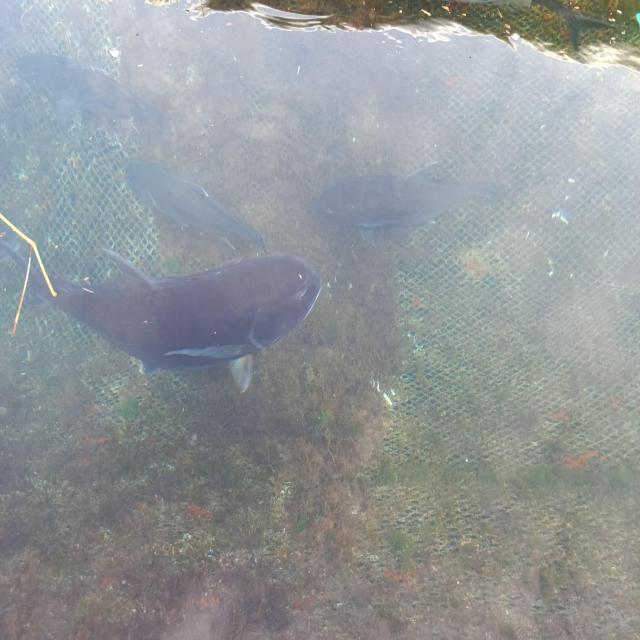ikan: (2, 222, 324, 394)
